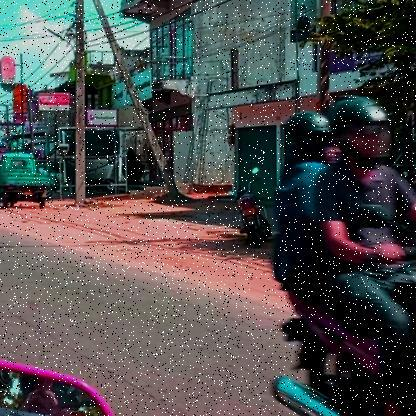motorcycle: (263, 226, 416, 416)
